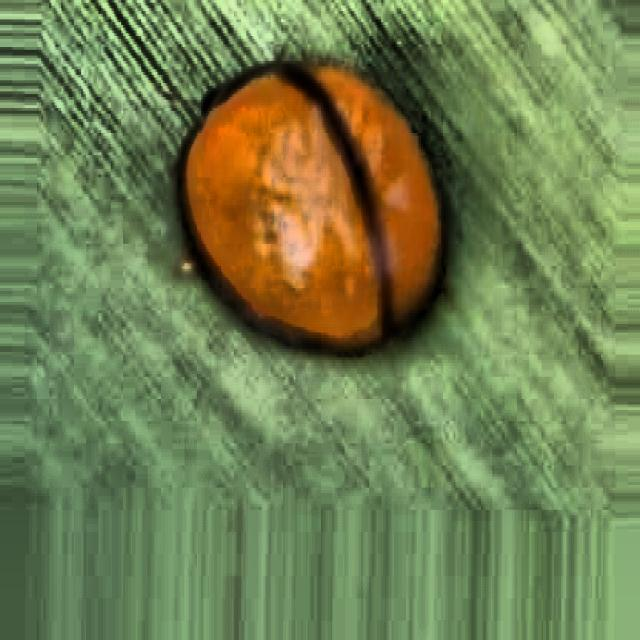Ladybug: (127, 2, 489, 404)
